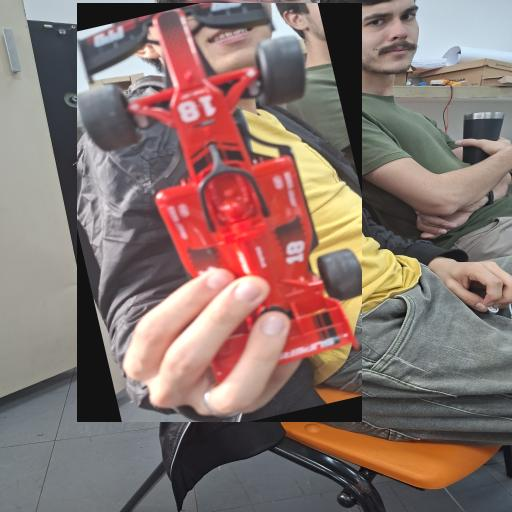carro: (77, 3, 362, 422)
